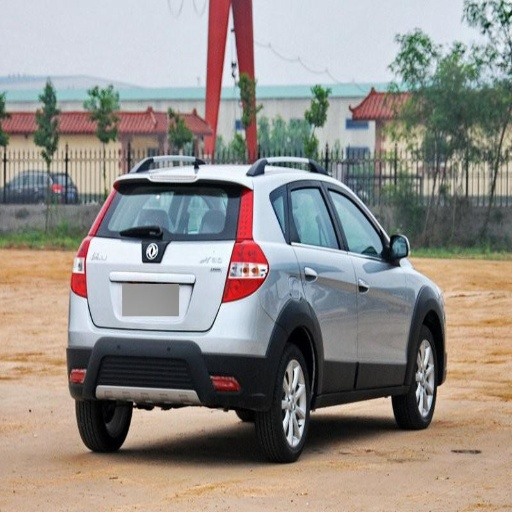back_bumper: (71, 284, 282, 408)
back_right_door: (288, 180, 353, 386)
tailgate: (87, 249, 222, 328)
trunk: (92, 237, 234, 304)
